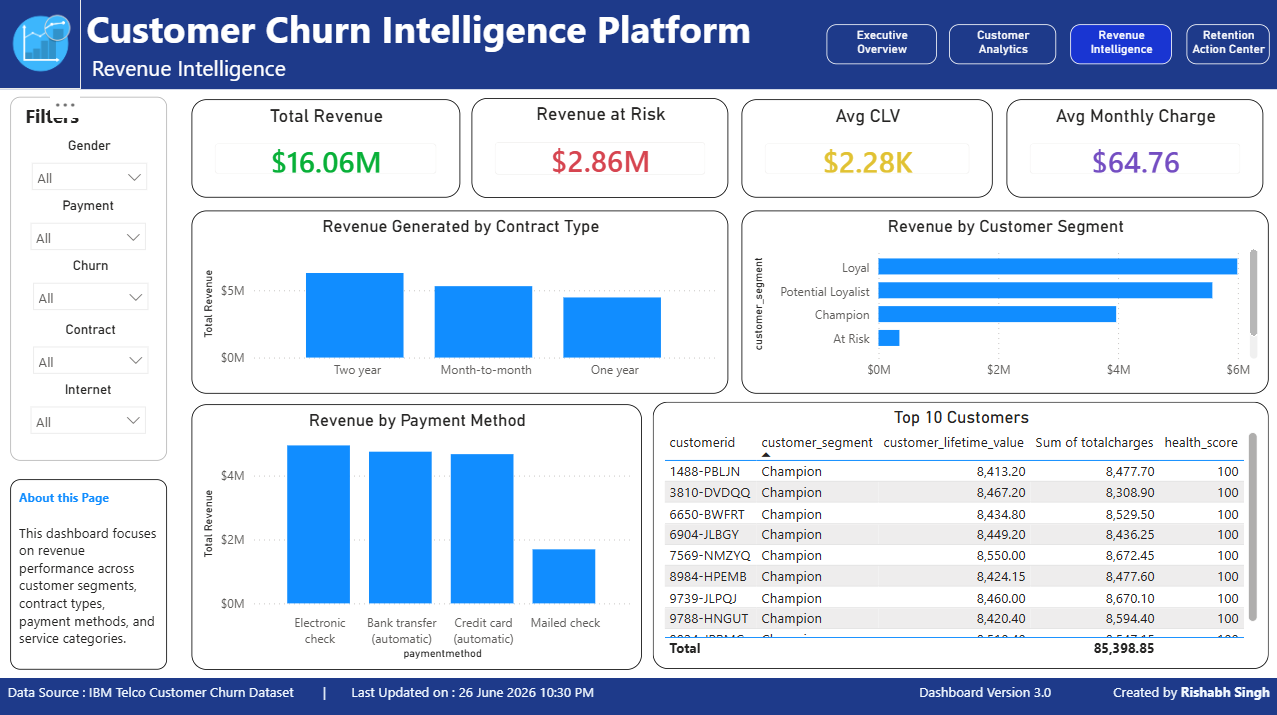

The page's visual inventory and layout, read from the dashboard file:
{"tool":"powerbi","page":{"name":"Revenue Intelligence","canvas":[1280,720],"ordinal":2},"visuals":[{"type":"cardVisual","title":"Total Revenue","fields":{"Data":["Customer Dashboard.Total Revenue"]},"box":[192.9,101.4,268.6,98.6],"z":6000},{"type":"cardVisual","title":"Revenue at Risk","fields":{"Data":["Customer Dashboard.Revenue At Risk"]},"box":[472.9,100,257.1,100],"z":7000},{"type":"cardVisual","title":"Avg CLV","fields":{"Data":["Customer Dashboard.Average CLV"]},"box":[742.9,101.4,251.4,98.6],"z":8000},{"type":"cardVisual","title":"Avg Monthly Charge","fields":{"Data":["Customer Dashboard.Average Monthly Charges"]},"box":[1007.1,101.4,257.1,98.6],"z":9000},{"type":"clusteredColumnChart","title":"Revenue Generated by Contract Type","fields":{"Category":["Customer Dashboard.contract"],"Y":["Customer Dashboard.Total Revenue"]},"box":[192.9,212.9,537.1,182.9],"z":10000},{"type":"textbox","box":[0,0,1280,91.4],"z":11000,"group":"g1"},{"type":"tableEx","title":"Top 10 Customers","fields":{"Values":["Customer Dashboard.customerid","Customer Dashboard.customer_segment","Customer Dashboard.customer_lifetime_value","Sum(Customer Dashboard.totalcharges)","Customer Dashboard.health_score"]},"box":[562.9,404.3,707.1,267.1],"z":11000},{"type":"barChart","title":"Revenue by Customer Segment","fields":{"Category":["Customer Dashboard.customer_segment"],"Y":["Customer Dashboard.Total Revenue"]},"box":[742.9,212.9,527.1,182.9],"z":12000},{"type":"clusteredColumnChart","title":"Revenue by Payment Method","fields":{"Y":["Customer Dashboard.Total Revenue"],"Category":["Customer Dashboard.paymentmethod"]},"box":[211.4,405.7,335.7,265.7],"z":13000},{"type":"shape","box":[11.4,98.6,157.1,364.3],"z":13001},{"type":"slicer","title":"Gender","fields":{"Values":["Customer Dashboard.gender"]},"box":[22.9,140,135.7,60],"z":13002},{"type":"slicer","title":"Payment","fields":{"Values":["Customer Dashboard.paymentmethod"]},"box":[21.4,200,135.7,77.1],"z":13003},{"type":"slicer","title":"Internet","fields":{"Values":["Customer Dashboard.internetservice"]},"box":[21.4,384.3,135.7,61.4],"z":13004},{"type":"slicer","title":"Churn","fields":{"Values":["Customer Dashboard.churn"]},"box":[24.3,260,135.7,78.6],"z":13005},{"type":"slicer","title":"Contract","fields":{"Values":["Customer Dashboard.contract"]},"box":[24.3,324.3,135.7,60],"z":13006},{"type":"textbox","box":[21.4,100,122.9,38.6],"z":13007},{"type":"group","id":"g1","title":"Group 1","box":[0,0,1280,91.4],"z":13008},{"type":"textbox","box":[0,680,1280,40],"z":13009},{"type":"textbox","box":[11.4,481.4,157.1,190],"z":13010},{"type":"actionButton","title":"Executive Overview","box":[827.1,25.7,110,40],"z":17000,"group":"g1"},{"type":"actionButton","title":"Revenue Intelligence","box":[1071.4,25.7,101.4,40],"z":18000,"group":"g1"},{"type":"actionButton","title":"Retention Action Center","box":[1187.1,25.7,82.9,40],"z":19000,"group":"g1"},{"type":"actionButton","title":"Customer Analytics","box":[950,25.7,107.1,40],"z":20000,"group":"g1"}]}

Visuals, with their boxes in screenshot pixels (x1, y1, x2, y2), scaled from the page's 1280x720 canvas onto the 1277x715 screenshot:
"Total Revenue" cardVisual: bbox(192, 101, 460, 199)
"Revenue at Risk" cardVisual: bbox(472, 99, 728, 199)
"Avg CLV" cardVisual: bbox(741, 101, 992, 199)
"Avg Monthly Charge" cardVisual: bbox(1005, 101, 1261, 199)
"Revenue Generated by Contract Type" clusteredColumnChart: bbox(192, 211, 728, 393)
textbox: bbox(0, 0, 1276, 91)
"Top 10 Customers" tableEx: bbox(562, 401, 1267, 667)
"Revenue by Customer Segment" barChart: bbox(741, 211, 1267, 393)
"Revenue by Payment Method" clusteredColumnChart: bbox(211, 403, 546, 667)
shape: bbox(11, 98, 168, 460)
"Gender" slicer: bbox(23, 139, 158, 199)
"Payment" slicer: bbox(21, 199, 157, 275)
"Internet" slicer: bbox(21, 382, 157, 443)
"Churn" slicer: bbox(24, 258, 160, 336)
"Contract" slicer: bbox(24, 322, 160, 382)
textbox: bbox(21, 99, 144, 138)
"Group 1" group: bbox(0, 0, 1276, 91)
textbox: bbox(0, 675, 1276, 714)
textbox: bbox(11, 478, 168, 667)
"Executive Overview" actionButton: bbox(825, 26, 935, 65)
"Revenue Intelligence" actionButton: bbox(1069, 26, 1170, 65)
"Retention Action Center" actionButton: bbox(1184, 26, 1267, 65)
"Customer Analytics" actionButton: bbox(948, 26, 1055, 65)
